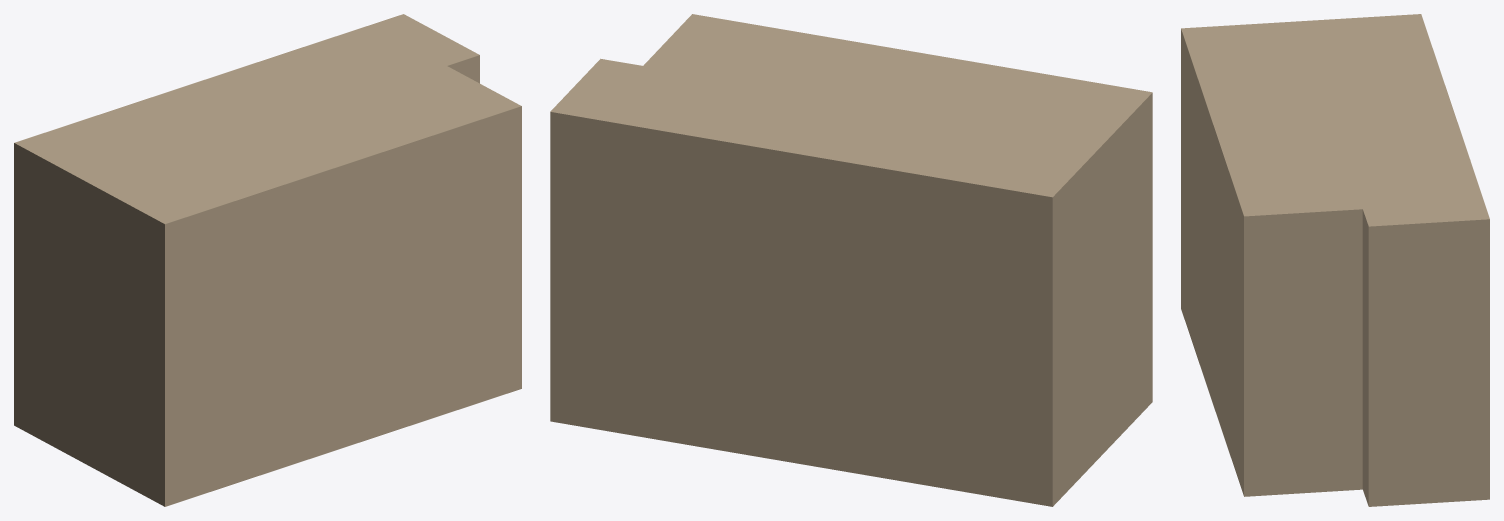
Rendered from bld_99867772.dae.
3 views of the same model, side by side, from view 1: azimuth 30°, elevation 25°; view 2: azimuth 150°, elevation 25°; view 3: azimuth 270°, elevation 25° (orthographic). The views are drawn at different scales.
Parts seen in each view (by area): view 1: bld_99867772; view 2: bld_99867772; view 3: bld_99867772.
Part boxes in pixels (<box>): bld_99867772: <box>14,14,521,506</box>; bld_99867772: <box>550,14,1152,506</box>; bld_99867772: <box>1181,14,1489,506</box>.
Size of the model in its own units: 13.01 by 7.99 by 8.
